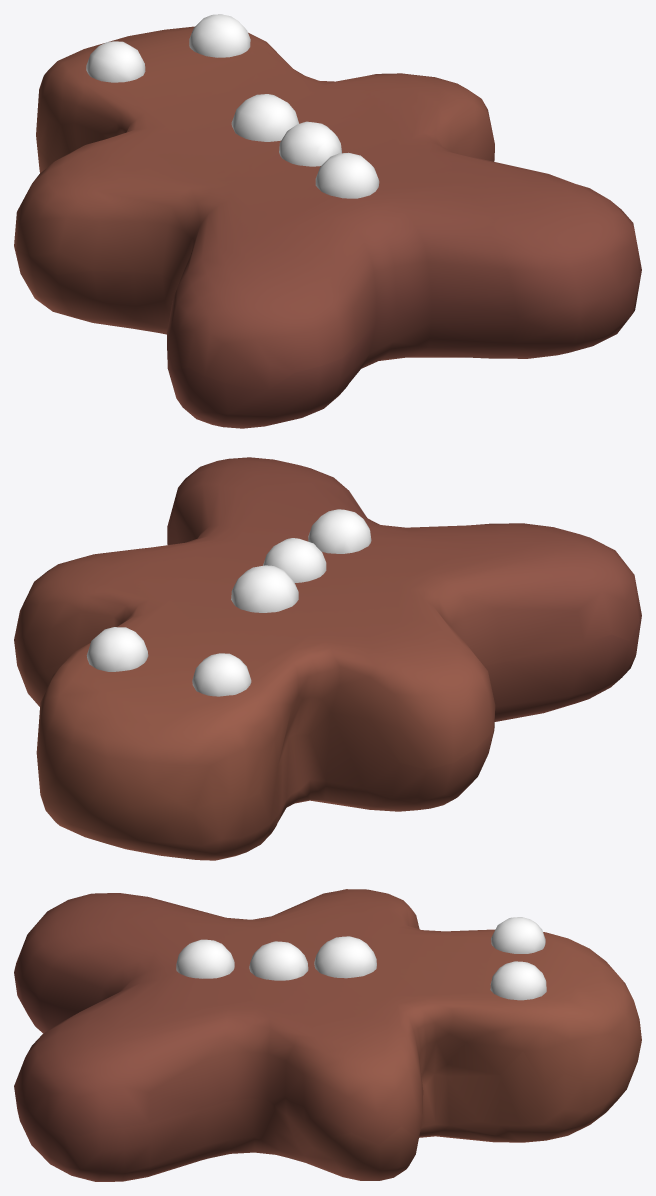
Rendered from Candyman01.fbx.
The picture shows the model from 3 angles, top to bottom: view 1: azimuth 30°, elevation 25°; view 2: azimuth 150°, elevation 25°; view 3: azimuth 270°, elevation 25°; orthographic projection. The views are drawn at different scales.
Visible parts, largest first — view 1: candyman; view 2: candyman; view 3: candyman.
Boxes of the visible parts, x1,y1,x2,y2 form: candyman: [14, 14, 641, 428]; candyman: [14, 457, 641, 860]; candyman: [14, 889, 641, 1181].
Bounding box in the file's own units: 15.56 × 11.82 × 4.65.
